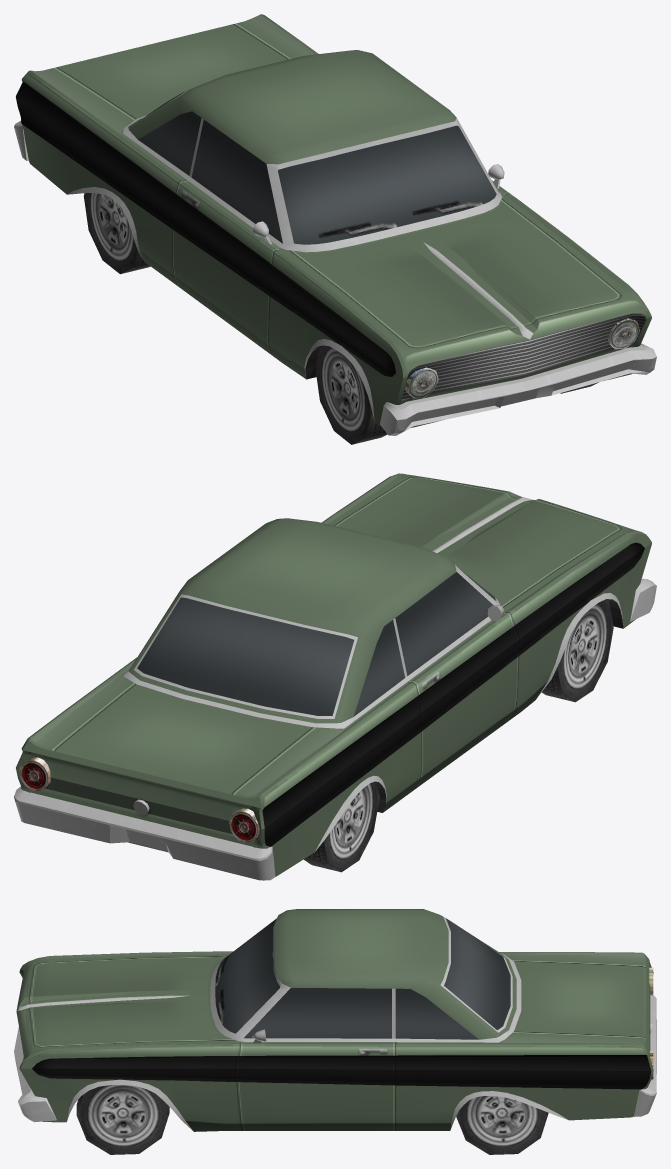
The model's file is ClassicStreetRod.fbx.
The picture shows the model from 3 angles, top to bottom: view 1: azimuth 30°, elevation 25°; view 2: azimuth 150°, elevation 25°; view 3: azimuth 270°, elevation 25°; orthographic projection. The views are drawn at different scales.
Parts seen in each view (by area): view 1: Chassis, FR_Wheel, RR_Wheel; view 2: Chassis, FR_Wheel, RR_Wheel; view 3: Chassis, LF_Wheel, LR_Wheel.
Boxes of the visible parts, x1,y1,x2,y2 form: Chassis: (14, 14, 656, 435); FR_Wheel: (315, 345, 387, 444); RR_Wheel: (83, 193, 150, 274); Chassis: (14, 473, 656, 880); FR_Wheel: (541, 599, 613, 702); RR_Wheel: (304, 782, 379, 872); Chassis: (14, 909, 656, 1131); LF_Wheel: (76, 1085, 169, 1154); LR_Wheel: (456, 1096, 548, 1154).
Size of the model in its own units: 2.09 by 1.58 by 5.46.
